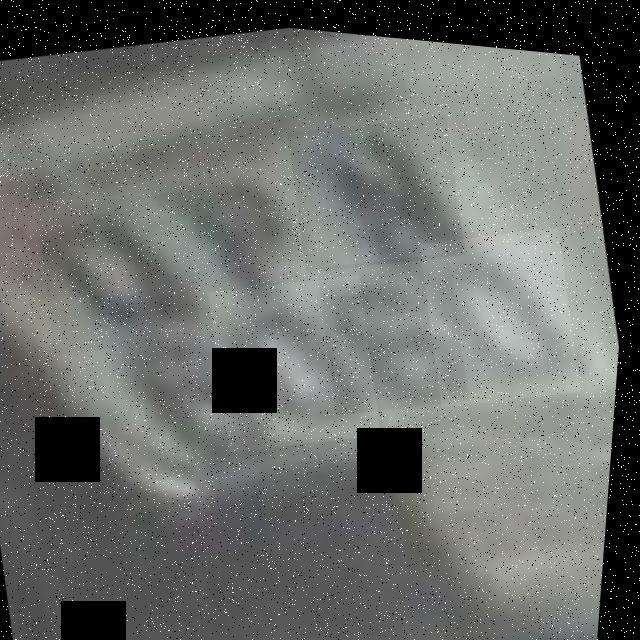0: (203, 256, 396, 458), (413, 205, 595, 408)
6: (311, 233, 482, 417)
D: (30, 175, 215, 364)
N: (280, 94, 476, 278)
P: (149, 133, 323, 325)
